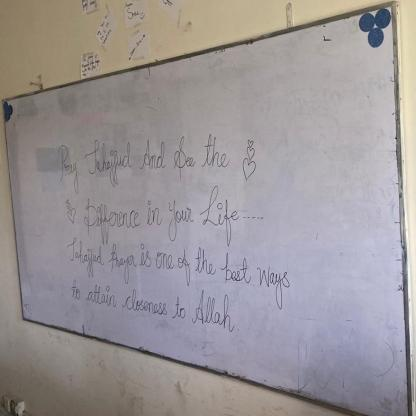Handwritten text: (58, 237, 292, 297), (63, 264, 245, 340), (49, 126, 237, 194), (79, 186, 243, 244)
Whiteboard: (0, 2, 411, 416)
